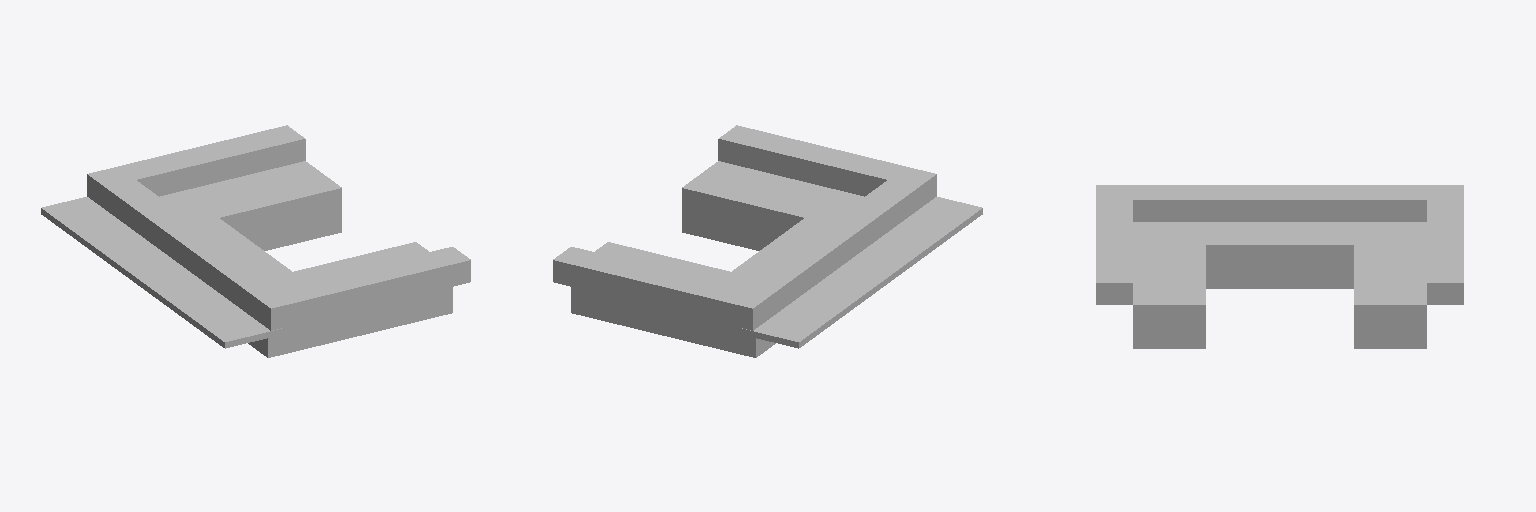
Rendered from tafel.obj.
3 renders of one model, left to right at view 1: azimuth 30°, elevation 25°; view 2: azimuth 150°, elevation 25°; view 3: azimuth 270°, elevation 25°, orthographic.
Parts seen in each view (by area): view 1: Cube.001; view 2: Cube.001; view 3: Cube.001.
Part boxes in pixels (bbox=[...]): Cube.001: bbox=[41, 125, 470, 357]; Cube.001: bbox=[553, 125, 982, 357]; Cube.001: bbox=[1096, 185, 1463, 348].
Bounding box in the file's own units: 5.79 × 1.5 × 7.5.